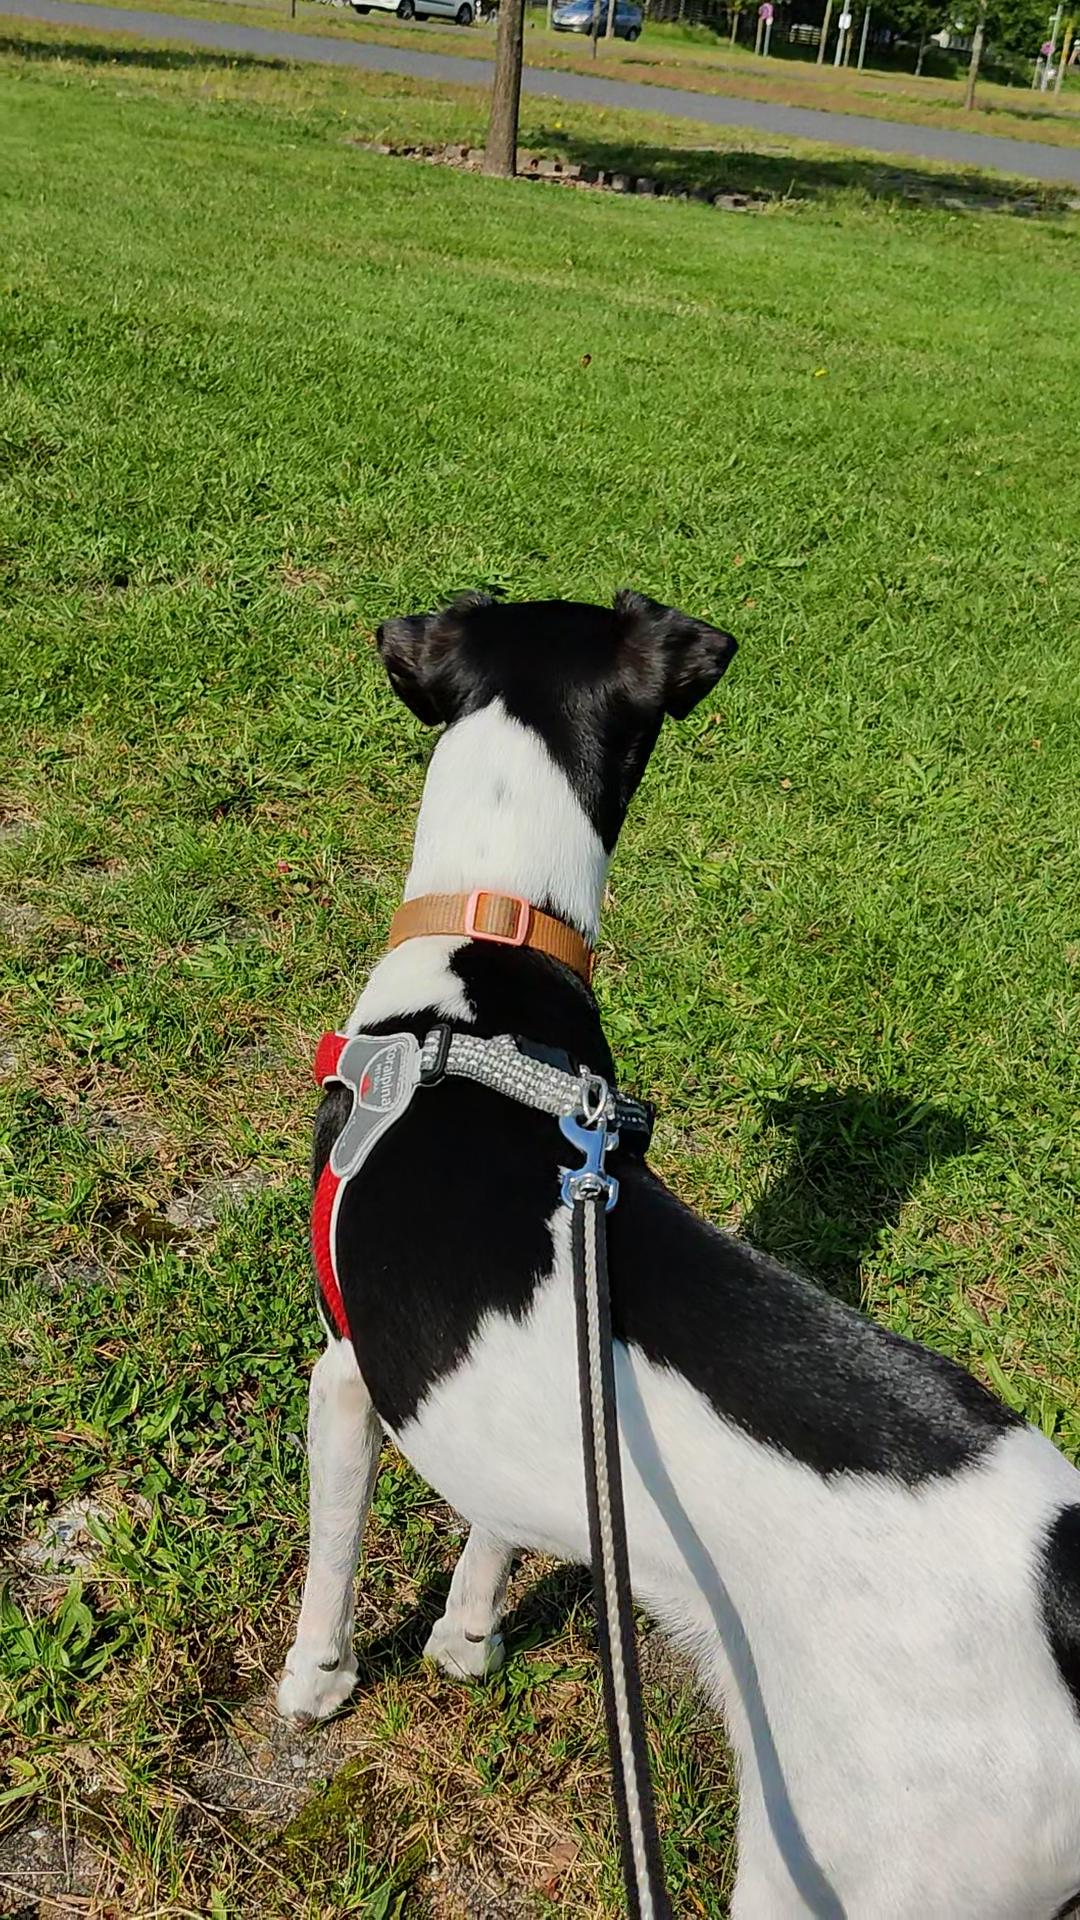Dog: (222, 574, 1079, 1919)
